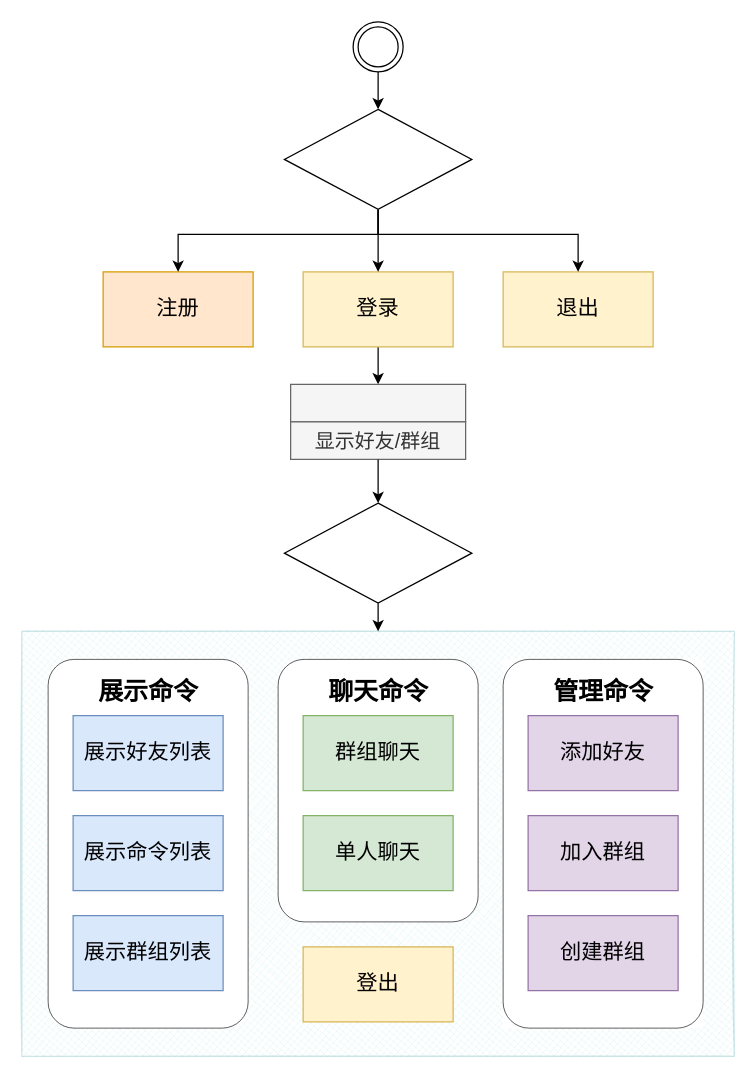
This 756x1079 diagram has some shape labels left out. Here are the shapes that lost their labels. From the top down, the box of each, then its label:
(283, 108, 472, 209): 登陆界面
(289, 383, 466, 422): 显示离线消息
(283, 502, 472, 603): 用户主界面
